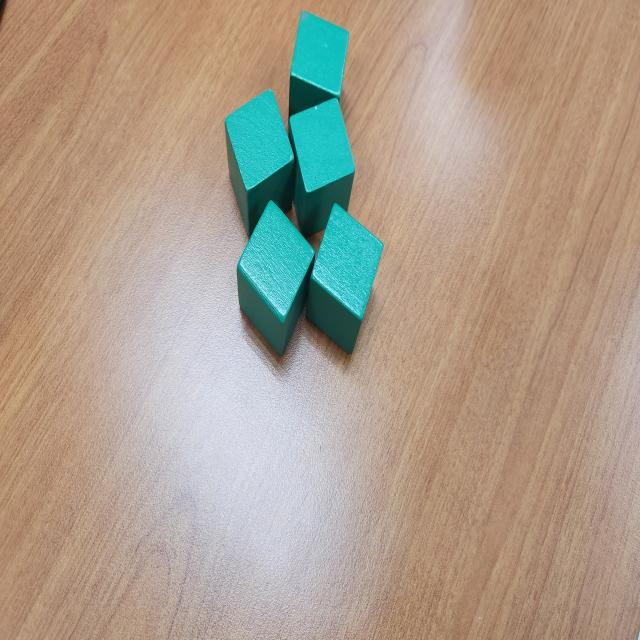green: (235, 200, 316, 359), (304, 200, 384, 356), (224, 89, 296, 238), (288, 95, 357, 238), (288, 9, 350, 128)
